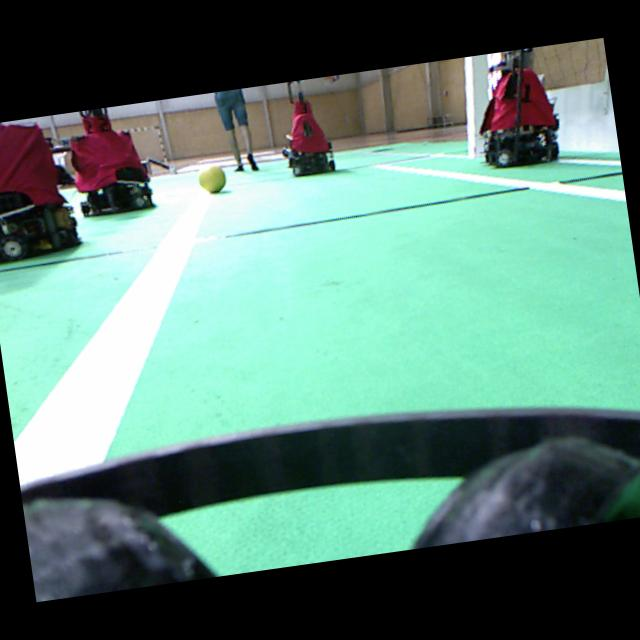ball: (198, 165, 225, 193)
goal: (464, 56, 477, 158)
